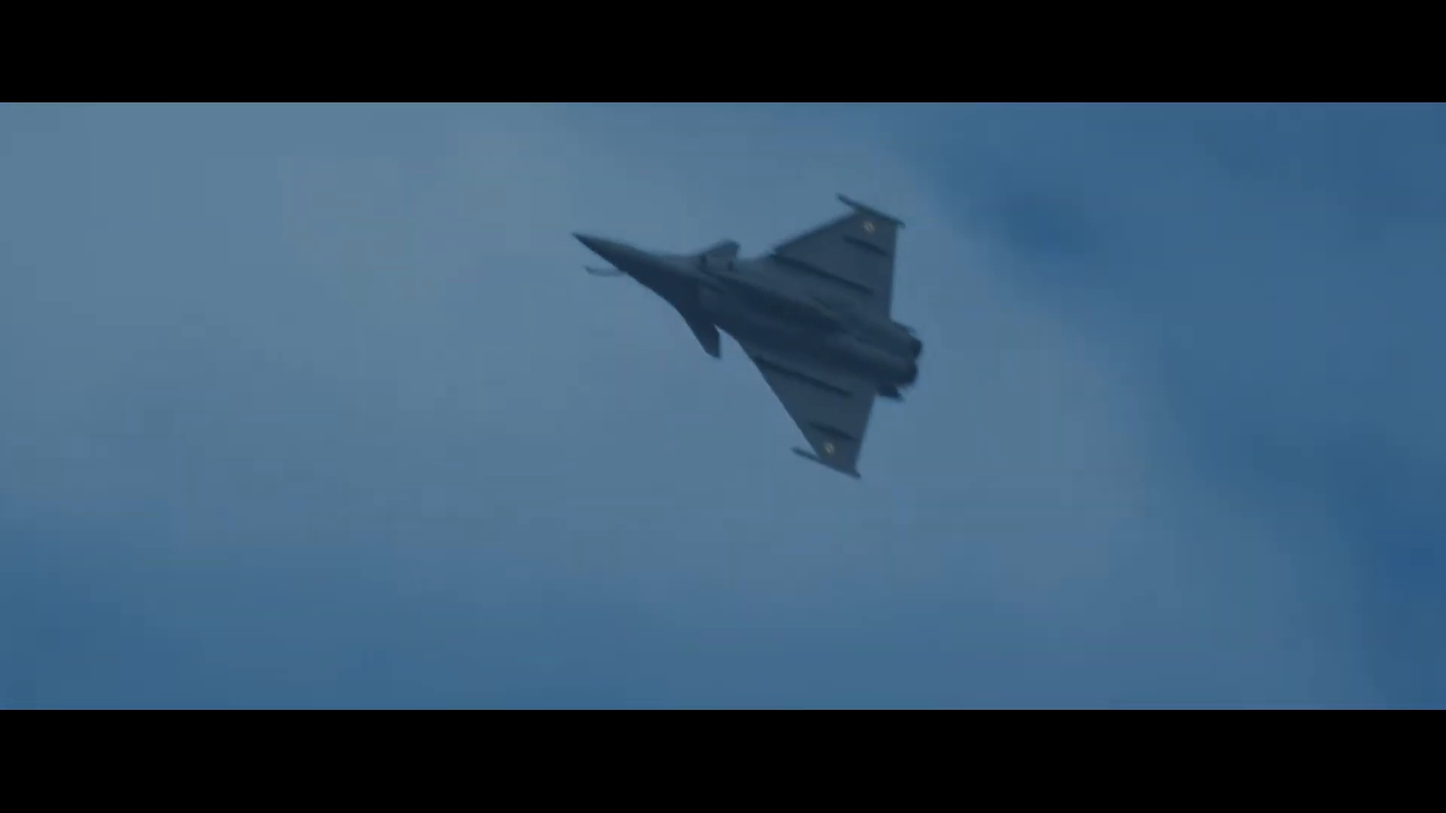Rafale: (565, 181, 926, 494)
